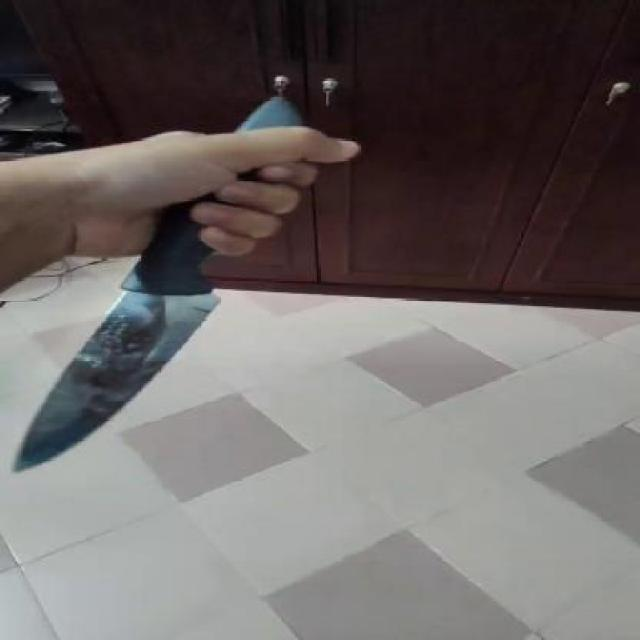knife: (20, 278, 214, 476)
